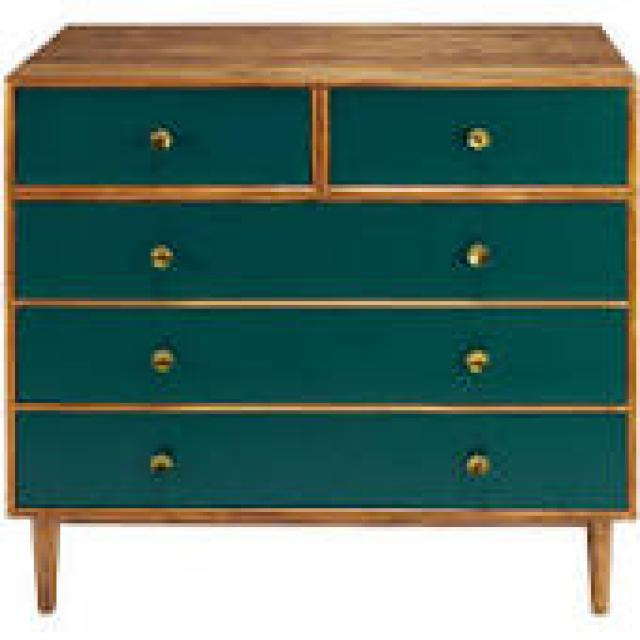mobile-phone: (5, 22, 635, 621)
